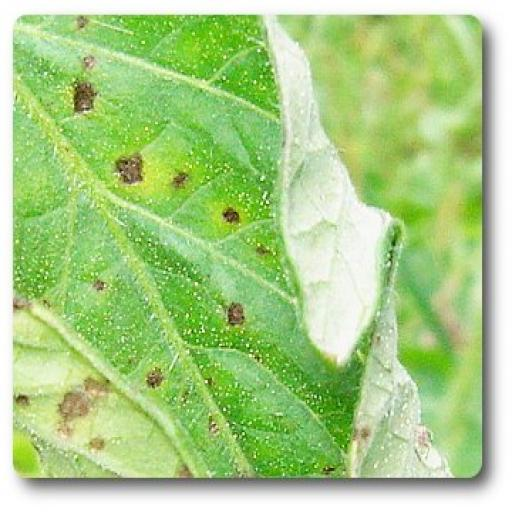disease_tomato: (14, 16, 454, 478)
